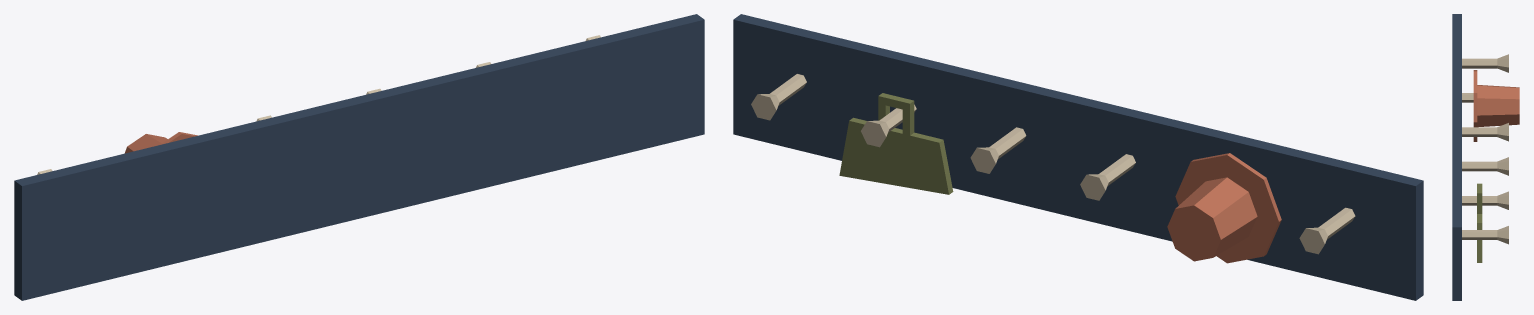
The model's file is FN_Rack_Peg.glb.
The picture shows the model from 3 angles, left to right: view 1: azimuth 30°, elevation 25°; view 2: azimuth 150°, elevation 25°; view 3: azimuth 270°, elevation 25°; orthographic projection. The views are drawn at different scales.
Parts seen in each view (by area): view 1: FN_Rack_Peg; view 2: FN_Rack_Peg; view 3: FN_Rack_Peg.
Part boxes in pixels (x1=…): FN_Rack_Peg: x1=14, y1=14, x2=704, y2=300; FN_Rack_Peg: x1=733, y1=14, x2=1423, y2=300; FN_Rack_Peg: x1=1452, y1=14, x2=1519, y2=300.
Bounding box in the file's own units: 1.12 × 0.18 × 0.15.
Materials: 1 (1 with a texture image).
